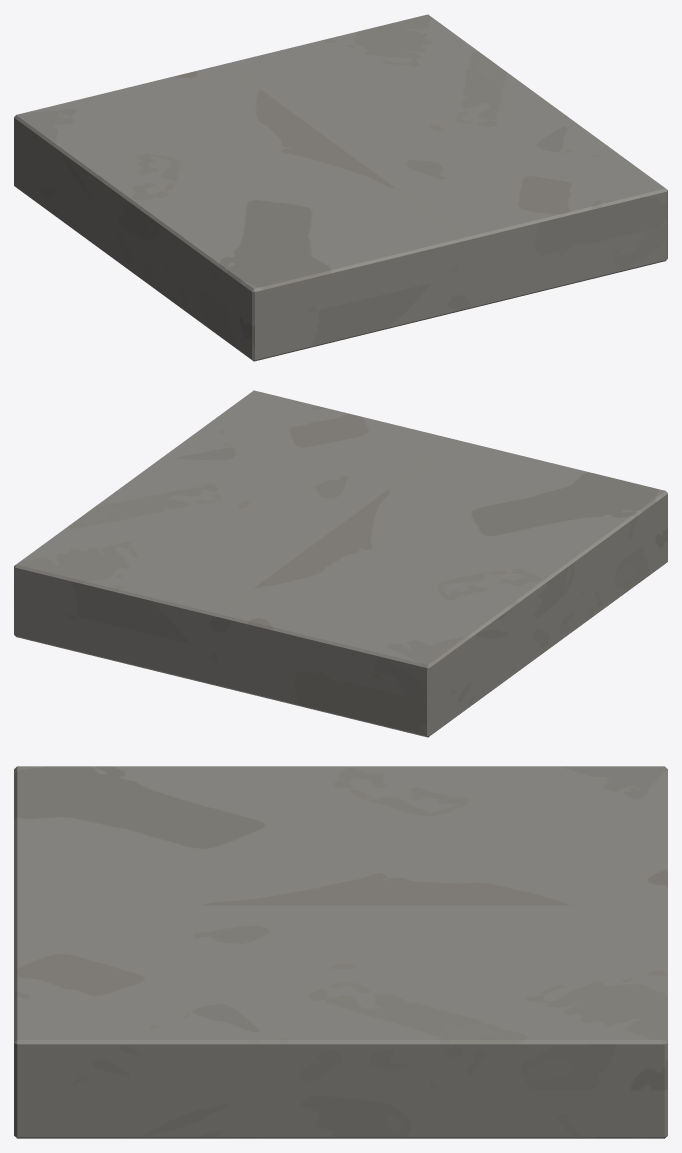
Rendered from model_concrete_block.fbx.
The picture shows the model from 3 angles, top to bottom: view 1: azimuth 30°, elevation 25°; view 2: azimuth 150°, elevation 25°; view 3: azimuth 270°, elevation 25°; orthographic projection. The views are drawn at different scales.
Parts seen in each view (by area): view 1: model_concrete_block; view 2: model_concrete_block; view 3: model_concrete_block.
Boxes of the visible parts, bbox=[...] form: model_concrete_block: bbox=[14, 14, 667, 361]; model_concrete_block: bbox=[14, 390, 667, 737]; model_concrete_block: bbox=[14, 766, 667, 1138].
Size of the model in its own units: 300 by 50 by 300.
1 material, 1 textured.
